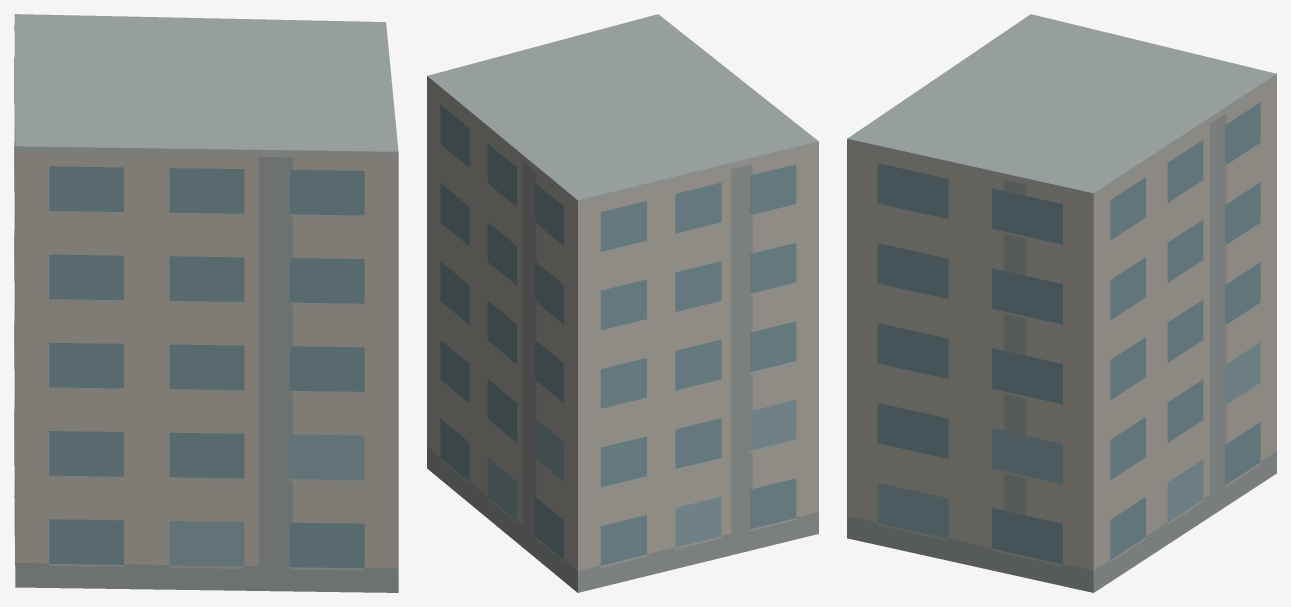
Rendered from residential-9406296d-fa71-4b2d-8f33-004e190125cb.glb.
The picture shows the model from 3 angles, left to right: view 1: azimuth 30°, elevation 25°; view 2: azimuth 150°, elevation 25°; view 3: azimuth 270°, elevation 25°; orthographic projection. The views are drawn at different scales.
Parts seen in each view (by area): view 1: residential-9406296d-fa71-4b2d-8f33-004e190125cb.tmp; view 2: residential-9406296d-fa71-4b2d-8f33-004e190125cb.tmp; view 3: residential-9406296d-fa71-4b2d-8f33-004e190125cb.tmp.
Boxes of the visible parts, x1,y1,x2,y2 form: residential-9406296d-fa71-4b2d-8f33-004e190125cb.tmp: [14, 14, 398, 592]; residential-9406296d-fa71-4b2d-8f33-004e190125cb.tmp: [427, 14, 818, 592]; residential-9406296d-fa71-4b2d-8f33-004e190125cb.tmp: [847, 14, 1276, 592].
Size of the model in its own units: 14.68 by 15.25 by 14.87.
